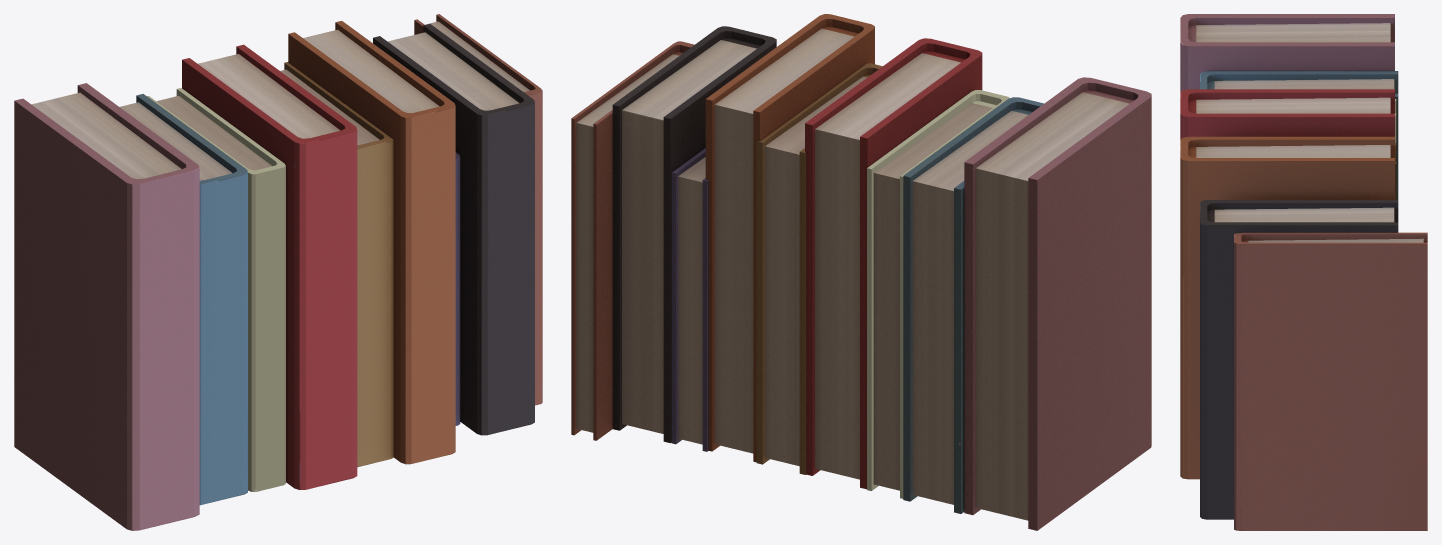
The model's file is SetOfBooks.glb.
3 views of the same model, side by side, from view 1: azimuth 30°, elevation 25°; view 2: azimuth 150°, elevation 25°; view 3: azimuth 270°, elevation 25° (orthographic). The views are drawn at different scales.
Visible parts, largest first — view 1: Set of Books; view 2: Set of Books; view 3: Set of Books.
Part boxes in pixels (x1,y1,x2,y2): Set of Books: [14, 14, 542, 530]; Set of Books: [571, 14, 1151, 530]; Set of Books: [1180, 14, 1427, 530].
Size of the model in its own units: 0.2978 by 0.2228 by 0.1566.
Materials: 2 (2 with a texture image).
